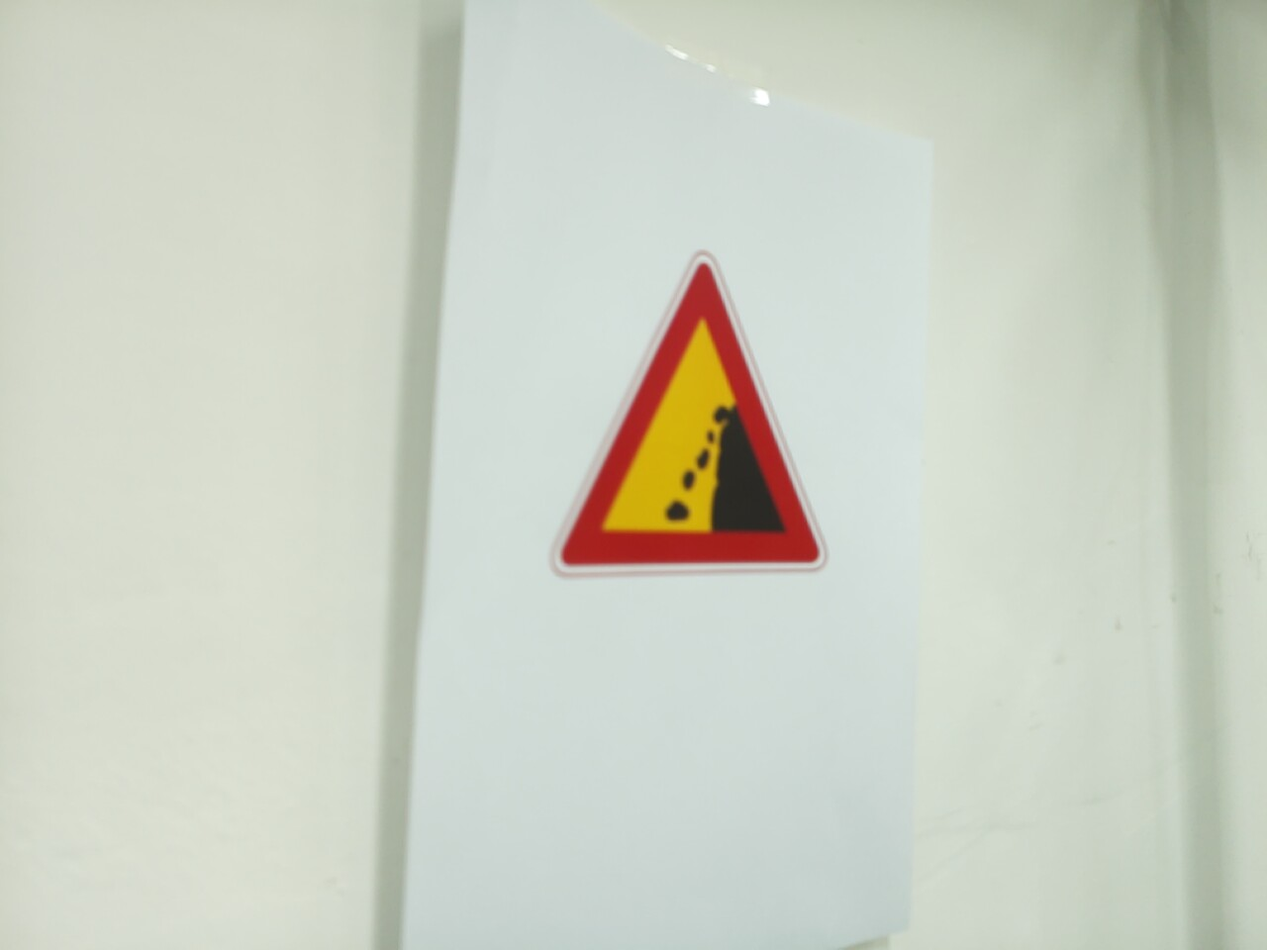falling_rocks: (552, 253, 828, 576)
